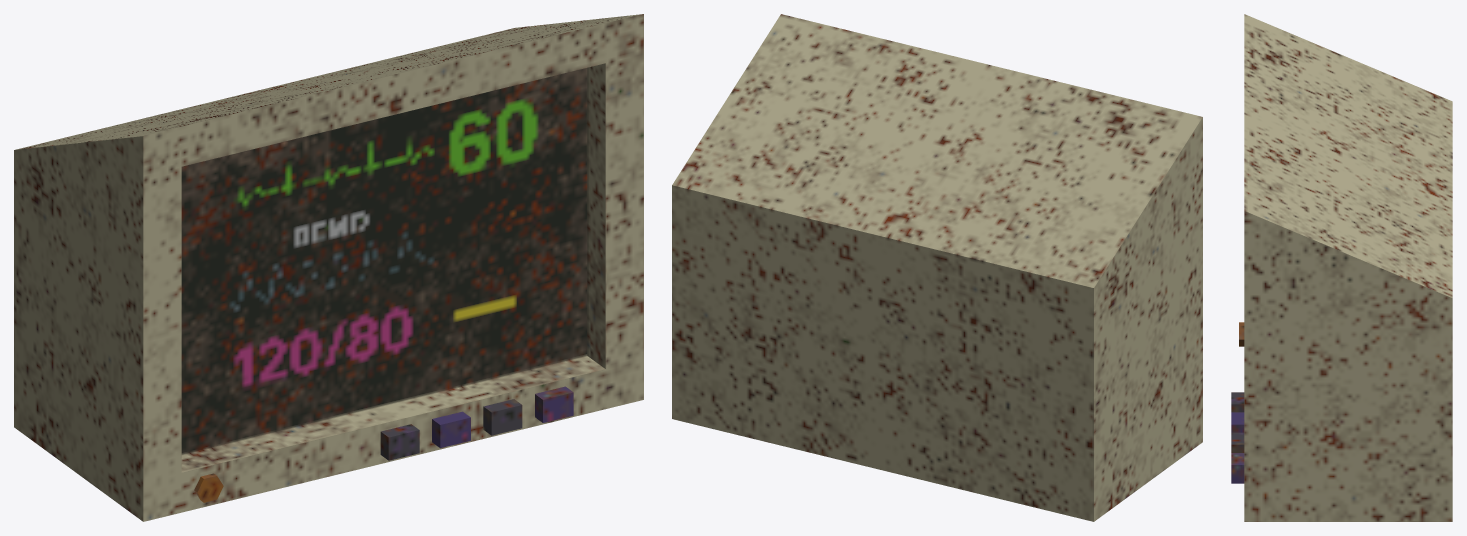
The model's file is cardiac_monitor_on.fbx.
3 views of the same model, side by side, from view 1: azimuth 30°, elevation 25°; view 2: azimuth 150°, elevation 25°; view 3: azimuth 270°, elevation 25° (orthographic). The views are drawn at different scales.
Parts seen in each view (by area): view 1: cardiac_monitor_on; view 2: cardiac_monitor_on; view 3: cardiac_monitor_on.
Boxes of the visible parts, bbox=[...] form: cardiac_monitor_on: bbox=[14, 14, 643, 521]; cardiac_monitor_on: bbox=[672, 14, 1202, 521]; cardiac_monitor_on: bbox=[1231, 14, 1452, 521].
Bounding box in the file's own units: 38 × 28 × 18.08.
1 material, 1 textured.
